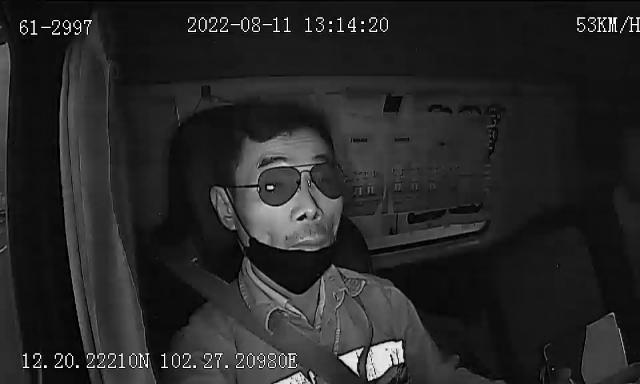SafeDriving: (418, 96, 461, 122), (260, 178, 288, 196)
Seatbelt: (144, 230, 380, 384)
